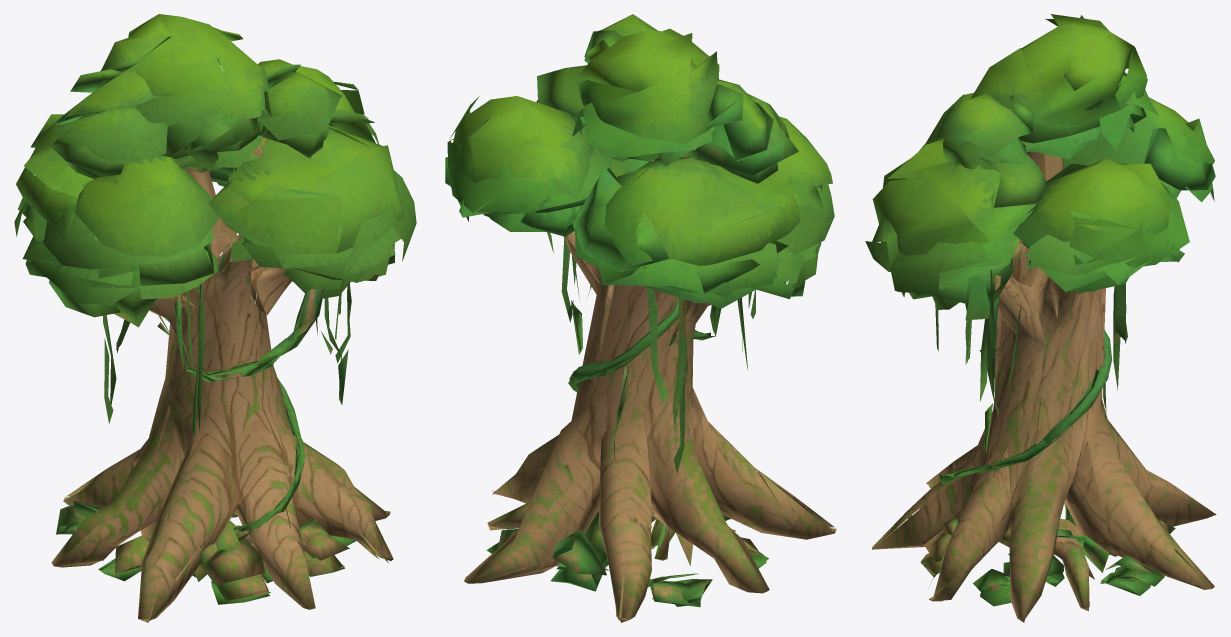
Rendered from Tree.fbx.
3 views of the same model, side by side, from view 1: azimuth 30°, elevation 25°; view 2: azimuth 150°, elevation 25°; view 3: azimuth 270°, elevation 25° (orthographic). The views are drawn at different scales.
Visible parts, largest first — view 1: Tree; view 2: Tree; view 3: Tree.
Part boxes in pixels (x1,y1,x2,y2): Tree: [14, 14, 416, 622]; Tree: [445, 14, 836, 622]; Tree: [865, 14, 1216, 622].
Size of the model in its own units: 6.51 by 9.5 by 5.88.
1 material, 1 textured.
